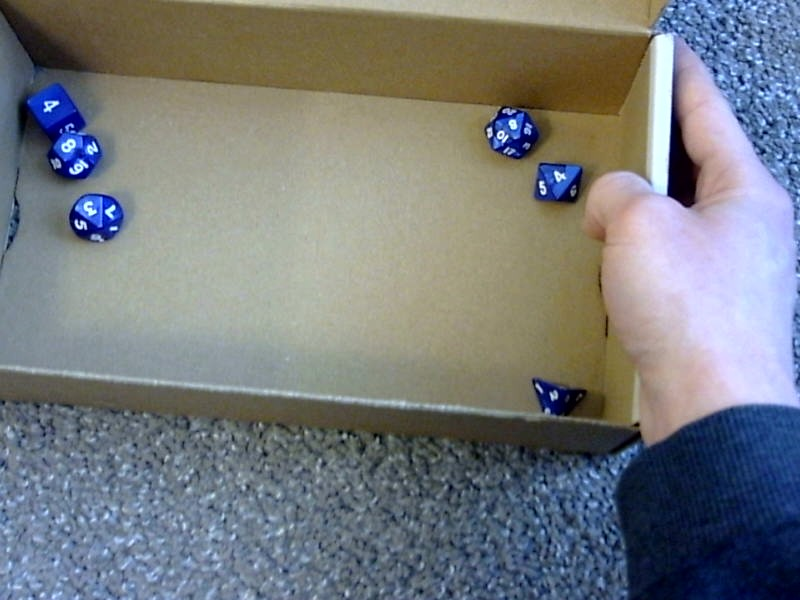d10 3: (64, 188, 124, 244)
d12 8: (45, 132, 104, 181)
d20 8: (483, 98, 539, 158)
d4 2: (525, 369, 589, 421)
d6 4: (16, 78, 84, 138)
d8 4: (533, 157, 581, 205)
